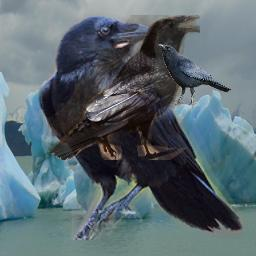Crow: (38, 13, 248, 240), (48, 15, 200, 160), (157, 44, 231, 106)
